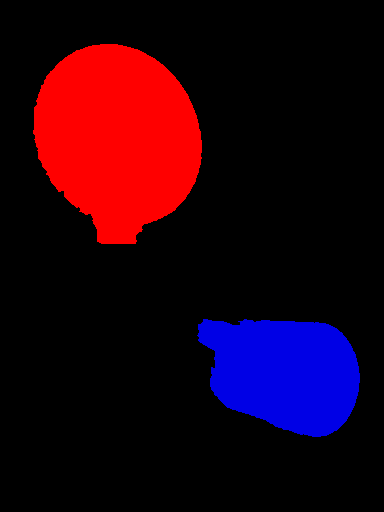cup: (194, 317, 362, 436)
speaker: (33, 44, 205, 244)
